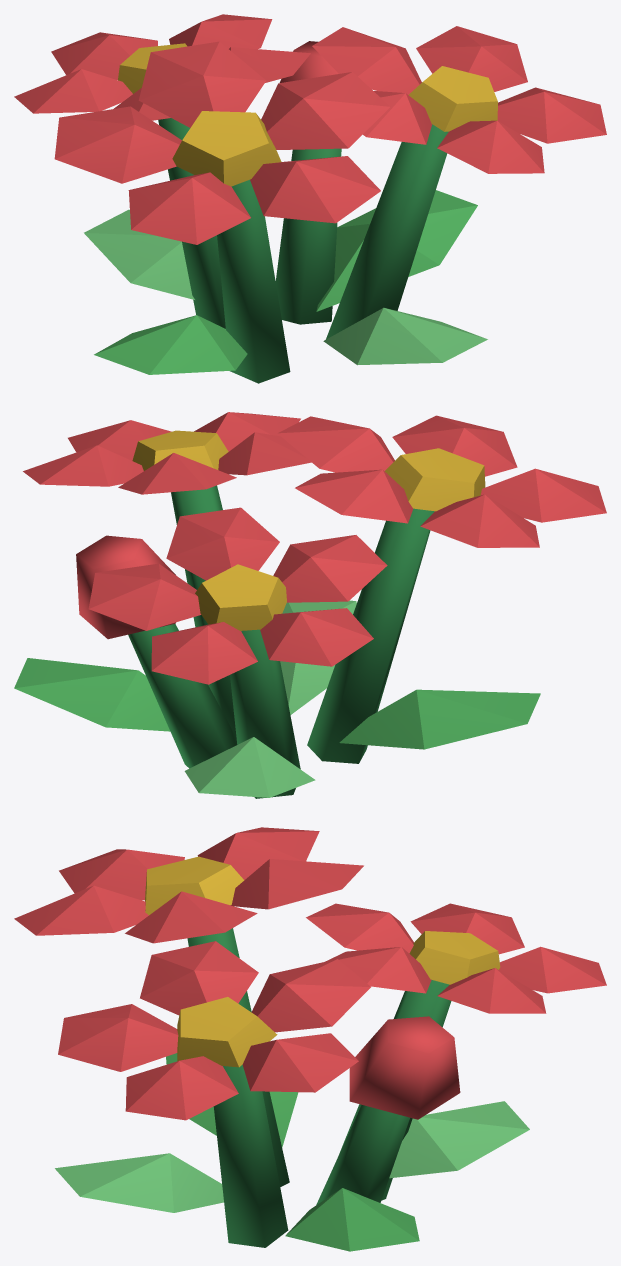
File: flower-cluster-red.glb
3 views of the same model, one above another, from view 1: azimuth 30°, elevation 25°; view 2: azimuth 150°, elevation 25°; view 3: azimuth 270°, elevation 25° (orthographic).
Visible parts, largest first — view 1: flower-cluster-red; view 2: flower-cluster-red; view 3: flower-cluster-red.
Boxes of the visible parts, box(x1,y1,x2,y2) form: flower-cluster-red: box(14, 14, 606, 383); flower-cluster-red: box(14, 412, 606, 798); flower-cluster-red: box(14, 827, 606, 1251).
Bounding box in the file's own units: 0.28 × 0.16 × 0.28.
